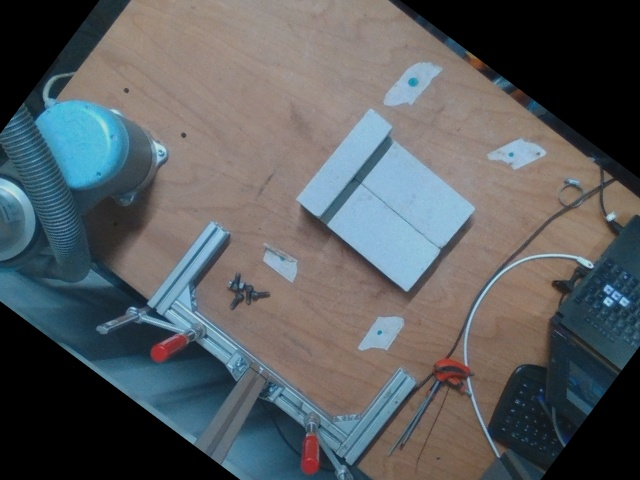brick-side: (293, 106, 395, 219)
